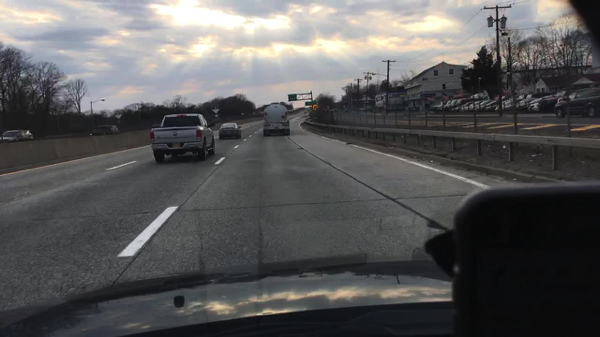car: (551, 86, 599, 118), (513, 92, 551, 113), (485, 93, 520, 112), (527, 96, 565, 112), (520, 95, 558, 110), (0, 128, 34, 143), (449, 96, 482, 110), (503, 93, 528, 110), (218, 123, 242, 140), (553, 93, 581, 107), (481, 95, 507, 110), (89, 124, 119, 136), (471, 98, 491, 110), (429, 99, 447, 112), (449, 101, 473, 110), (446, 97, 460, 112), (460, 100, 479, 110), (435, 100, 453, 110), (357, 105, 373, 113), (329, 109, 335, 114)
traffic sign: (304, 99, 318, 107), (112, 114, 124, 120), (288, 94, 296, 101), (211, 108, 220, 114)
truck: (150, 112, 217, 162), (262, 103, 290, 136)
